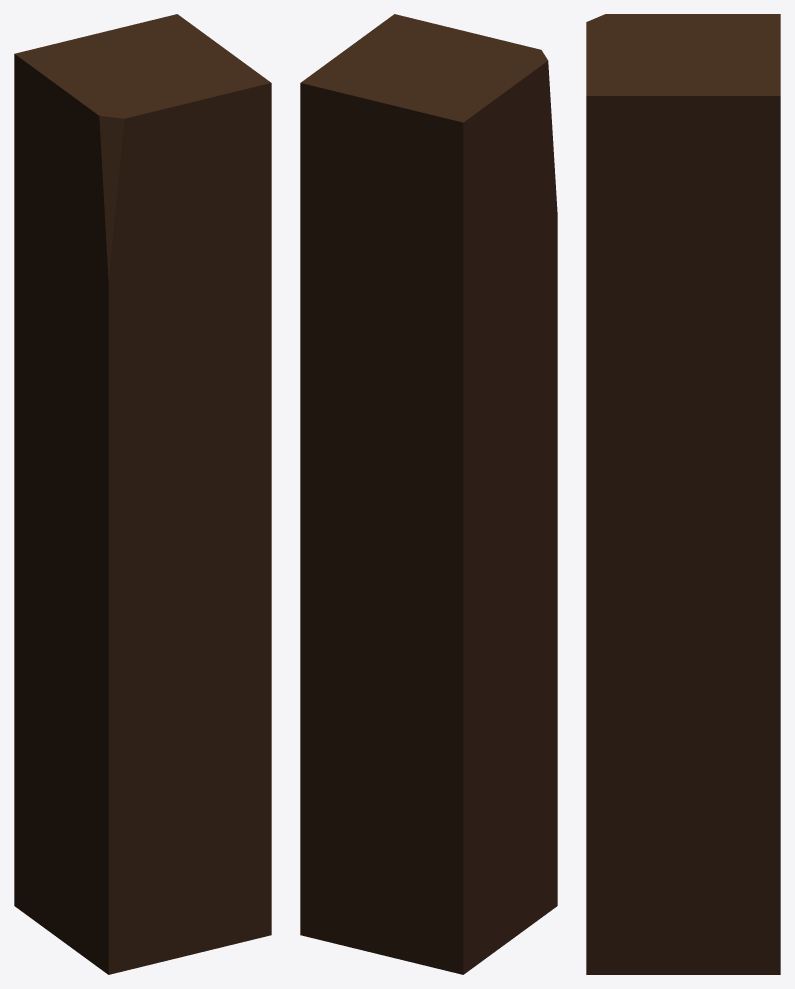
The model's file is Cave_Lair_Wooden_Timber_Fence_Post_02.fbx.
The picture shows the model from 3 angles, left to right: view 1: azimuth 30°, elevation 25°; view 2: azimuth 150°, elevation 25°; view 3: azimuth 270°, elevation 25°; orthographic projection. The views are drawn at different scales.
Parts seen in each view (by area): view 1: Cave_Lair_Wooden_Timber_Fence_Post_02; view 2: Cave_Lair_Wooden_Timber_Fence_Post_02; view 3: Cave_Lair_Wooden_Timber_Fence_Post_02.
Boxes of the visible parts, bbox=[...] form: Cave_Lair_Wooden_Timber_Fence_Post_02: bbox=[14, 14, 271, 974]; Cave_Lair_Wooden_Timber_Fence_Post_02: bbox=[300, 14, 557, 974]; Cave_Lair_Wooden_Timber_Fence_Post_02: bbox=[586, 14, 780, 974].
Bounding box in the file's own units: 0.225 × 1.12 × 0.225.
